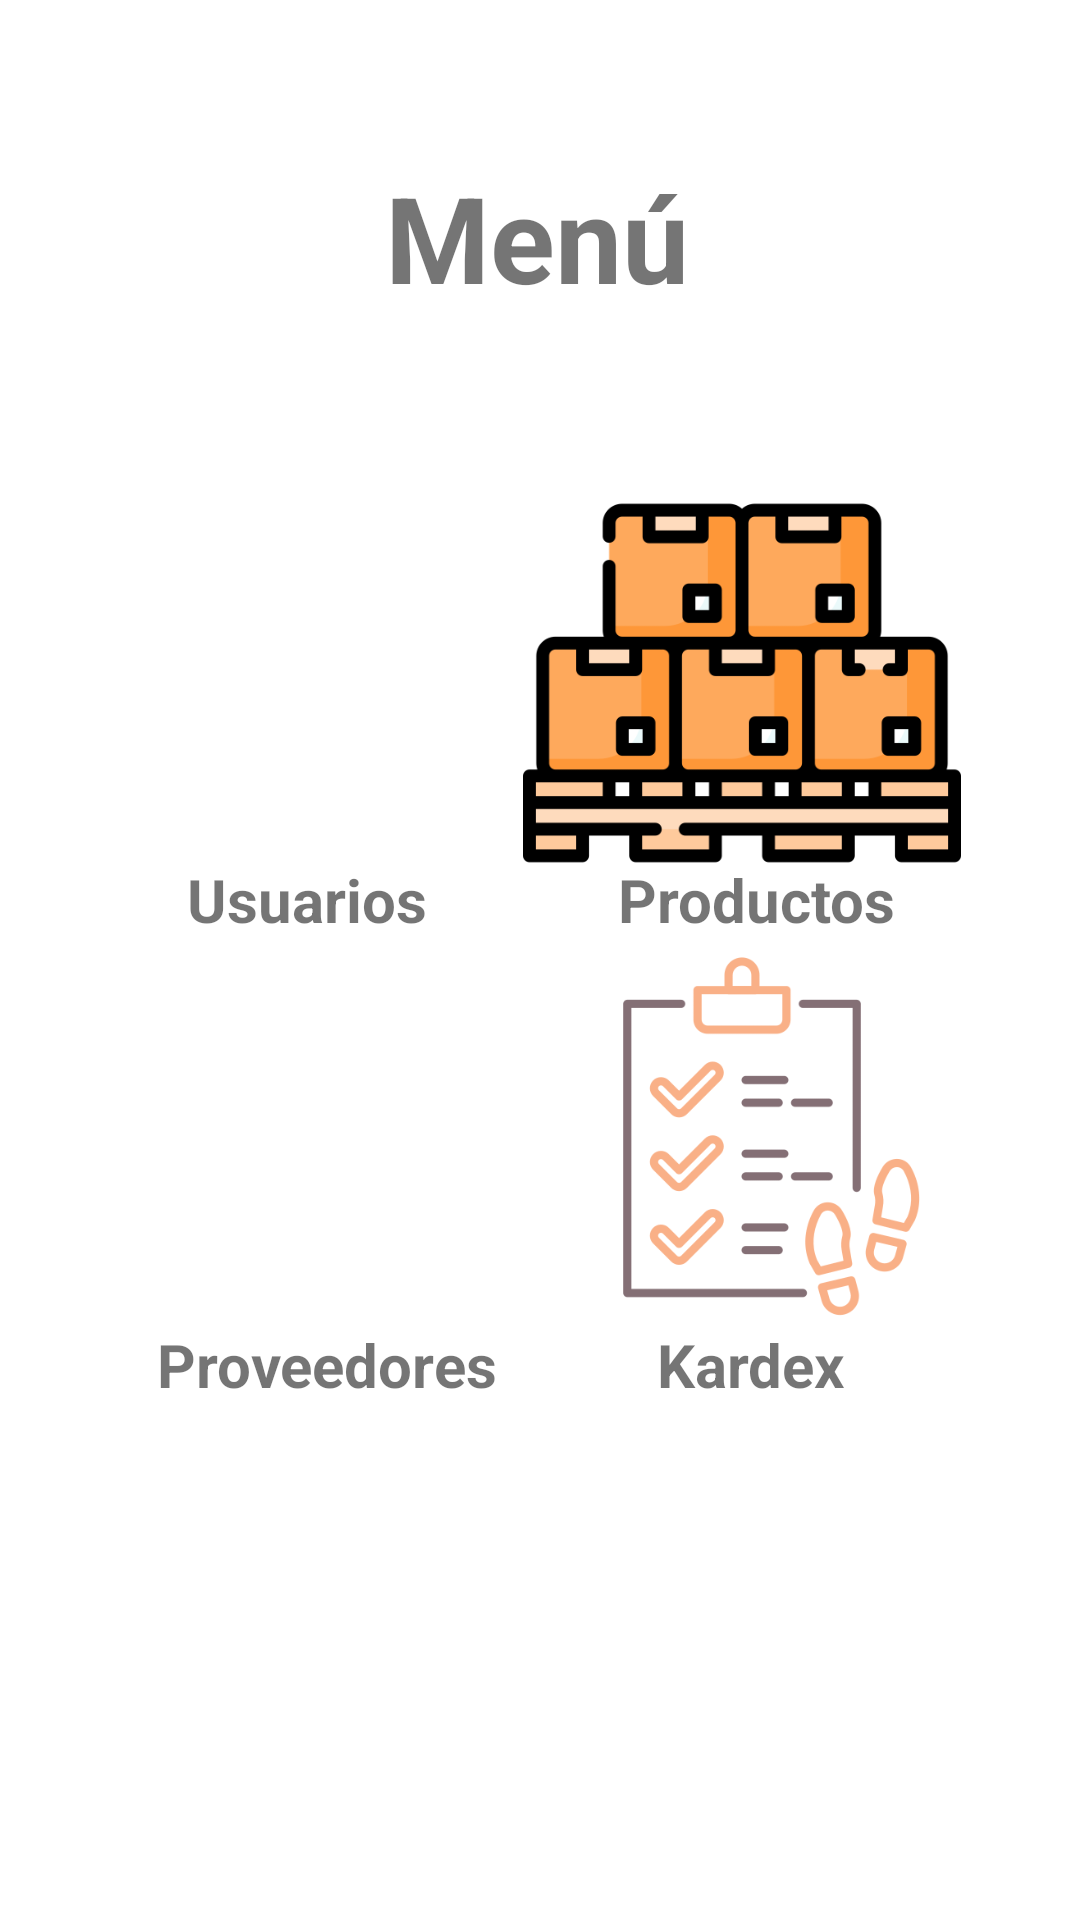

Icons on this 1080 x 1920 Android screen, each with the point to tap as (x=x, y=y):
movimiento: (x=771, y=1136)
